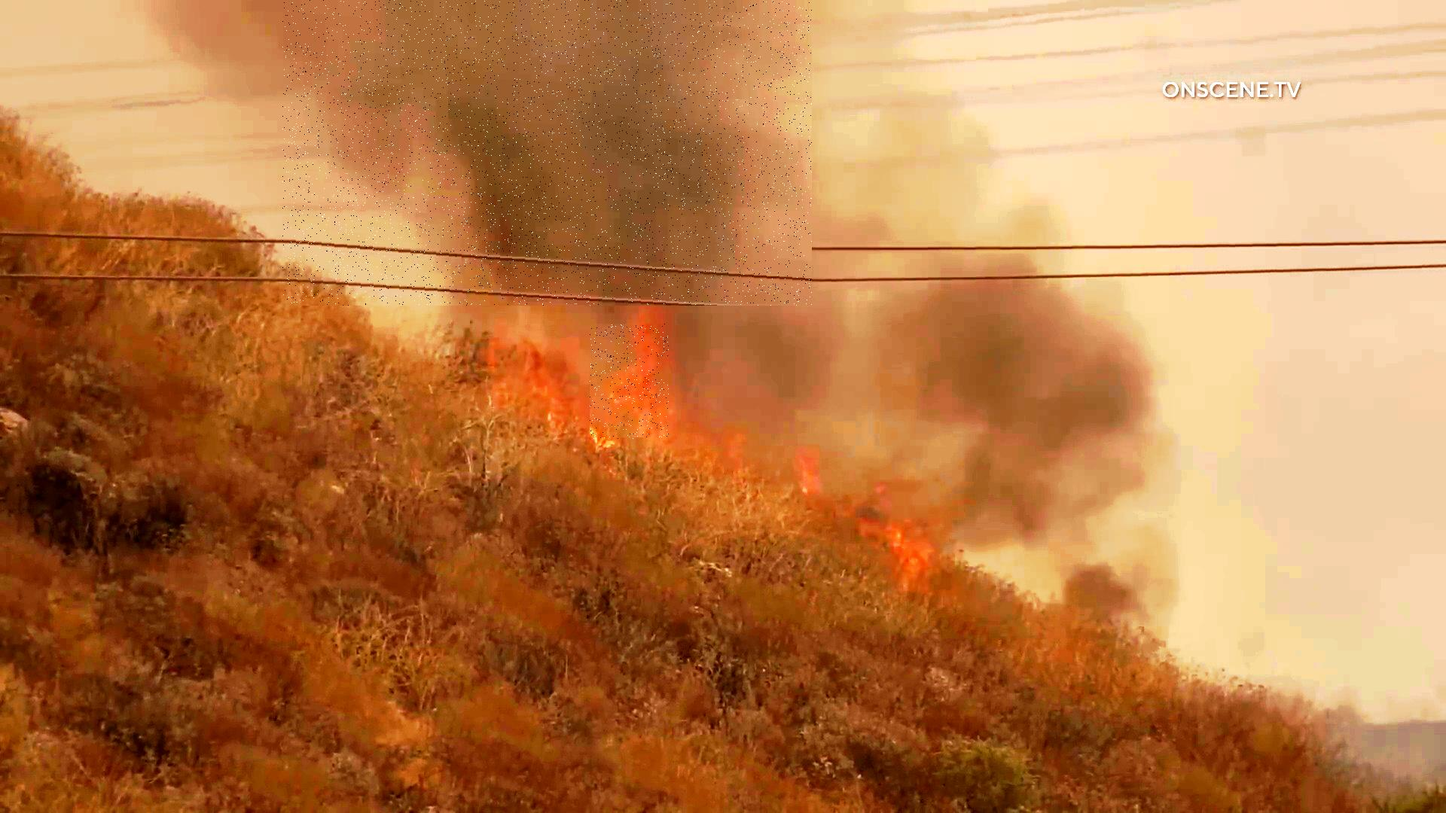fire: (590, 324, 669, 440)
smoke: (282, 0, 812, 306)
